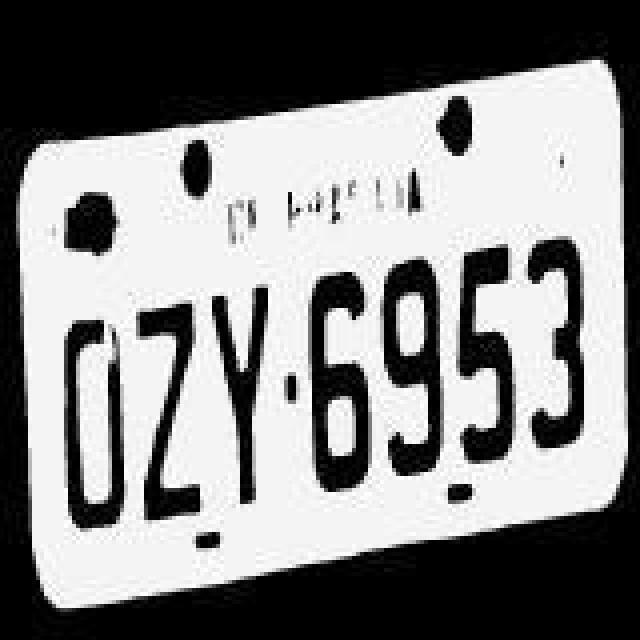3: (522, 206, 598, 466)
5: (448, 210, 528, 478)
6: (304, 246, 376, 506)
9: (380, 232, 444, 488)
O: (52, 294, 124, 554)
Y: (208, 254, 280, 522)
Z: (132, 284, 204, 548)
